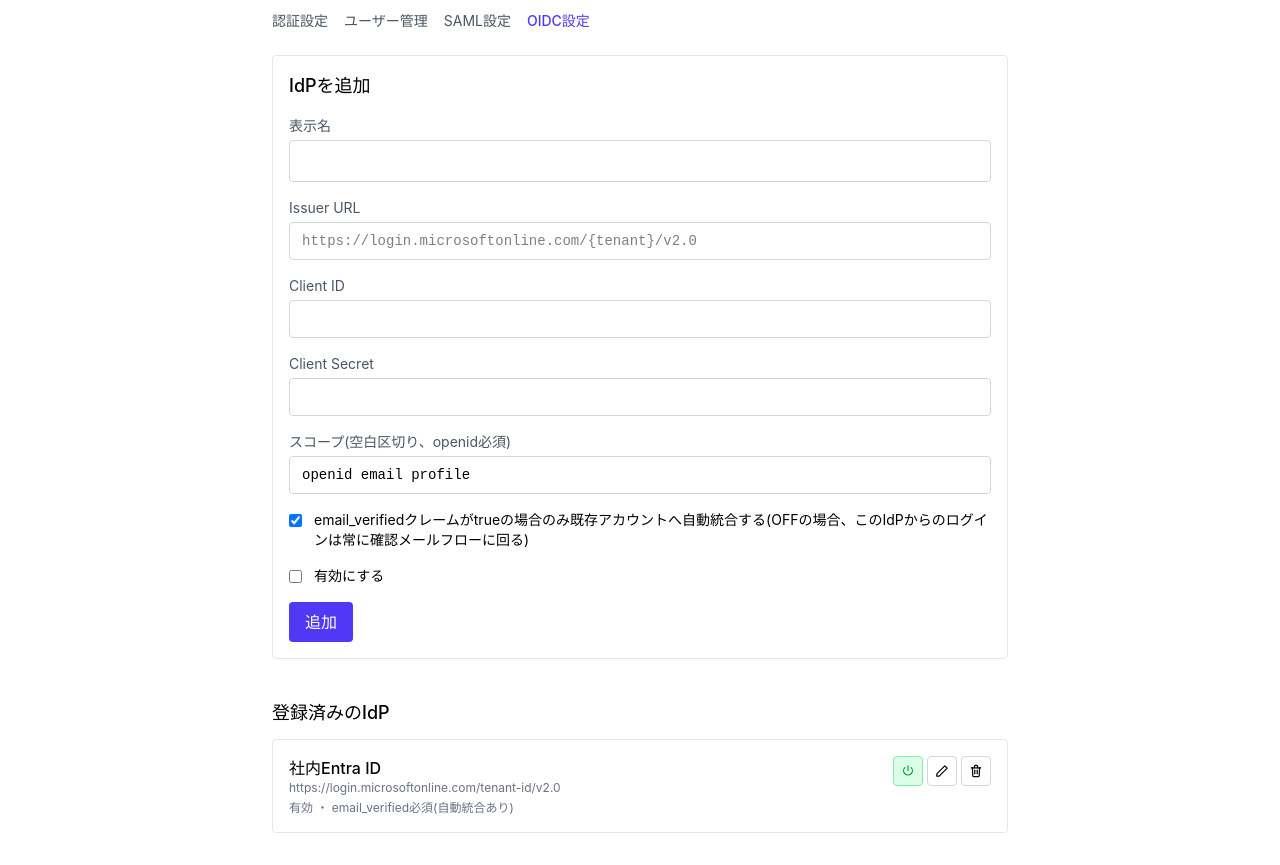
Test: AdminOIDCConfigsPage › deletes a config after confirmation
This screenshot has width=1280, height=865.
(page scrolled)
Expected: the text "社内Entra ID" is shown, left=289, top=758, right=381, bottom=778
Click the button named "削除": (976, 771) left=961, top=756, right=991, bottom=786
(page scrolled)
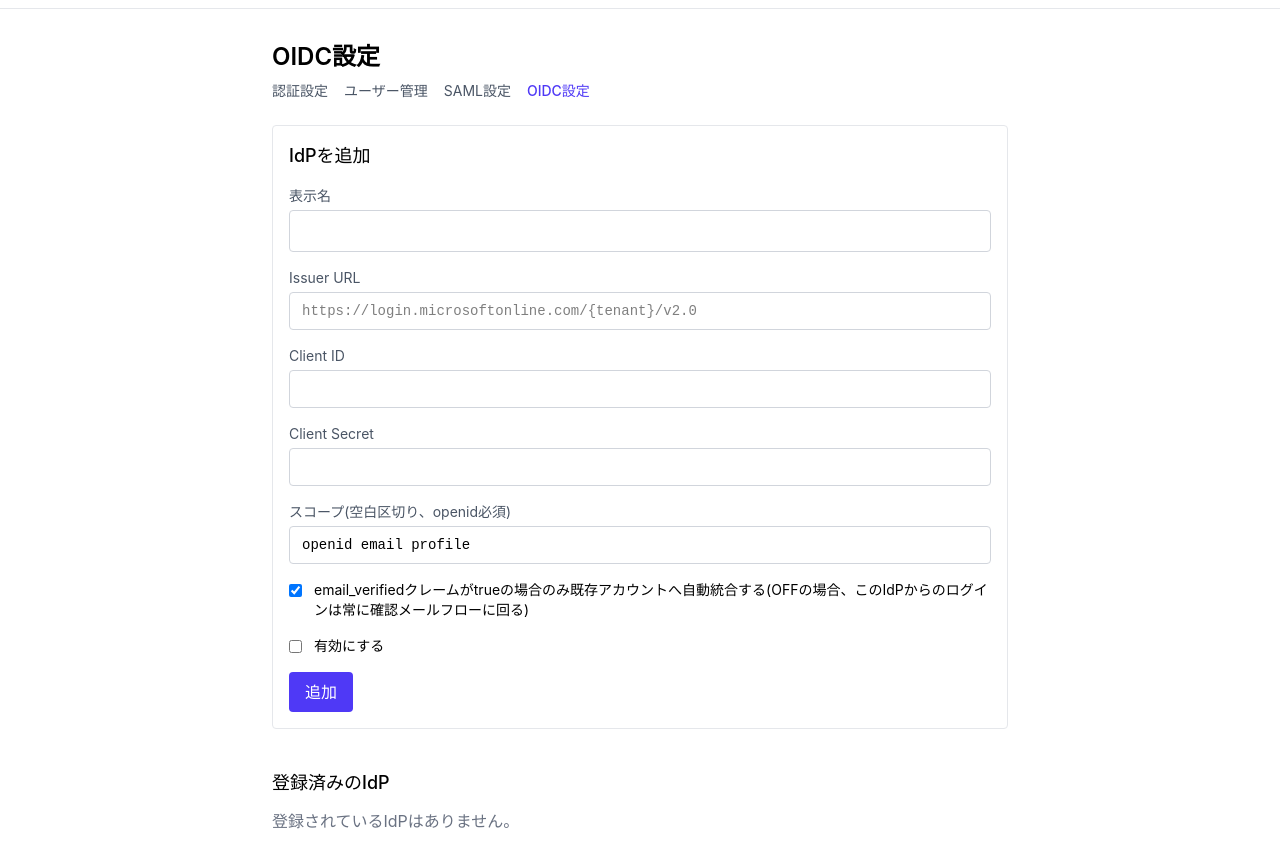
Expected: the text "社内Entra ID" is gone
